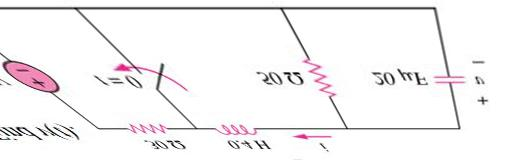inductor: (204, 112, 264, 137)
